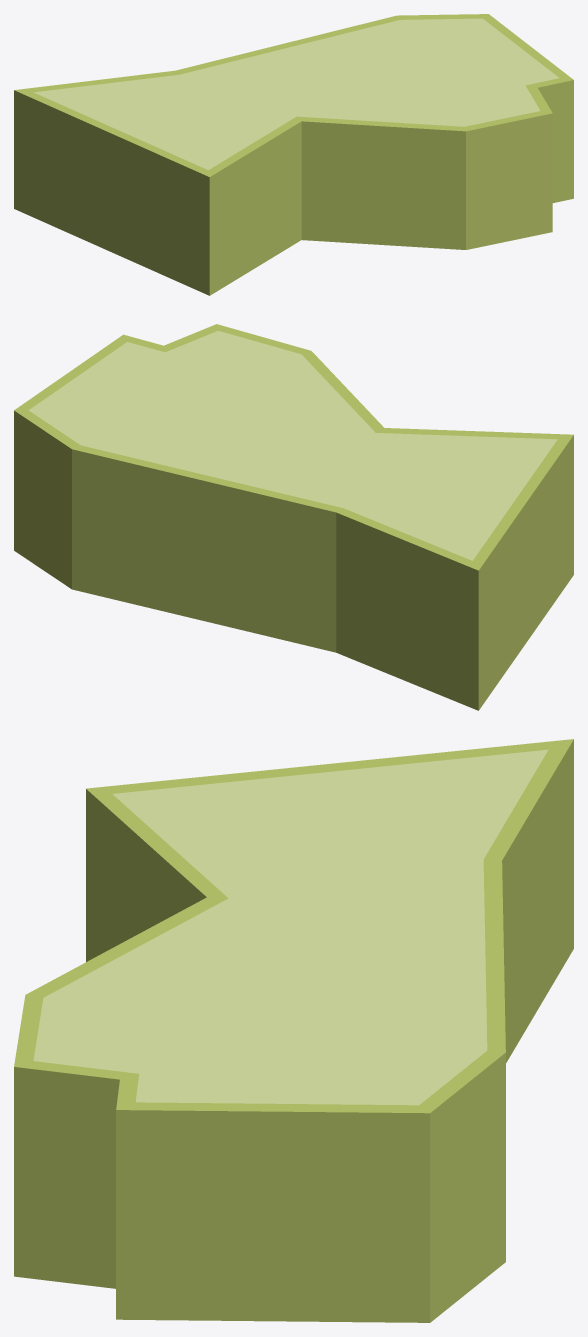
Rendered from Islands2.005.fbx.
3 views of the same model, one above another, from view 1: azimuth 30°, elevation 25°; view 2: azimuth 150°, elevation 25°; view 3: azimuth 270°, elevation 25° (orthographic). The views are drawn at different scales.
Parts seen in each view (by area): view 1: Island2.005; view 2: Island2.005; view 3: Island2.005.
Part boxes in pixels (x1=…): Island2.005: x1=14, y1=14, x2=573, y2=295; Island2.005: x1=14, y1=324, x2=573, y2=710; Island2.005: x1=14, y1=739, x2=573, y2=1322.
Bounding box in the file's own units: 95.65 × 25 × 60.5.
